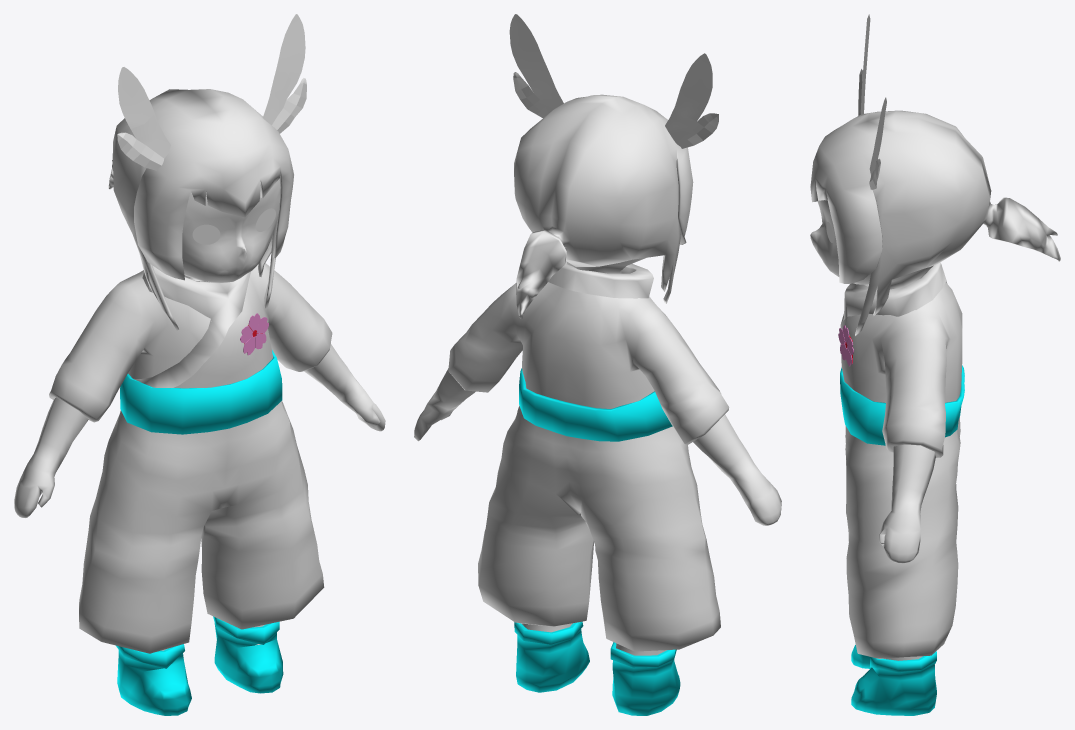
The model's file is Base Mesh All Done no textures Dawn Colors solidified hair.fbx.
3 views of the same model, side by side, from view 1: azimuth 30°, elevation 25°; view 2: azimuth 150°, elevation 25°; view 3: azimuth 270°, elevation 25° (orthographic). The views are drawn at different scales.
Visible parts, largest first — view 1: Pants, Main Hair, SHirt, Body, Shoes, Waistcloth/belt, Hair Tufts, Collar, Circle, Flower Emblem; view 2: Pants, Main Hair, SHirt, Shoes, Body, Hair Tufts, Waistcloth/belt, Collar; view 3: Main Hair, Pants, SHirt, Body, Shoes, Waistcloth/belt, Collar, Hair Tufts, Flower Emblem.
Part boxes in pixels (x1,y1,x2,y2): Pants: [79, 401, 324, 653]; Main Hair: [108, 89, 293, 330]; SHirt: [49, 263, 332, 422]; Body: [14, 179, 385, 650]; Shoes: [115, 616, 283, 715]; Waistcloth/belt: [120, 350, 282, 434]; Hair Tufts: [117, 14, 306, 170]; Collar: [133, 265, 250, 387]; Circle: [192, 208, 275, 244]; Flower Emblem: [240, 313, 268, 355]; Pants: [478, 406, 720, 651]; Main Hair: [514, 94, 693, 318]; SHirt: [448, 282, 729, 444]; Shoes: [514, 621, 680, 715]; Body: [414, 257, 781, 655]; Hair Tufts: [509, 14, 718, 148]; Waistcloth/belt: [519, 368, 672, 441]; Collar: [548, 261, 653, 298]; Main Hair: [810, 110, 1060, 335]; Pants: [845, 417, 960, 658]; SHirt: [841, 281, 962, 457]; Body: [810, 200, 935, 660]; Shoes: [851, 645, 936, 715]; Waistcloth/belt: [840, 365, 964, 445]; Collar: [840, 262, 946, 328]; Hair Tufts: [858, 14, 886, 189]; Flower Emblem: [838, 325, 853, 366].
Bounding box in the file's own units: 140 × 242 × 87.13.
